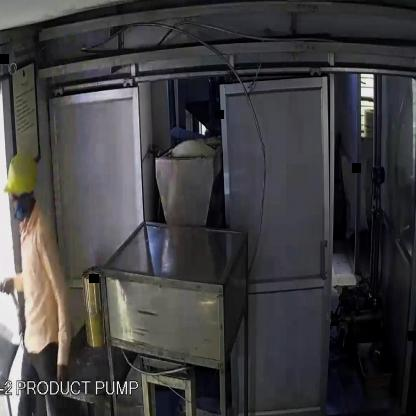helmet: (3, 133, 40, 227)
